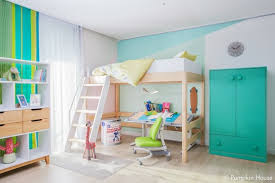Chair: (130, 115, 175, 166)
Closet: (209, 66, 272, 164)
